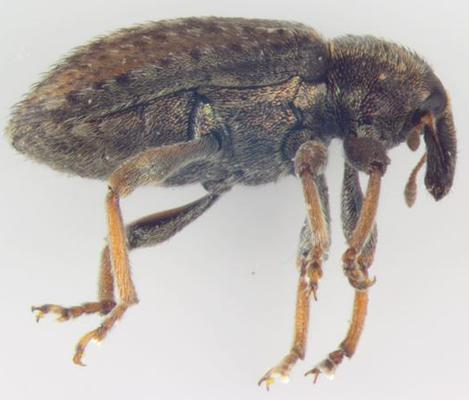weevils: (0, 1, 469, 400)
